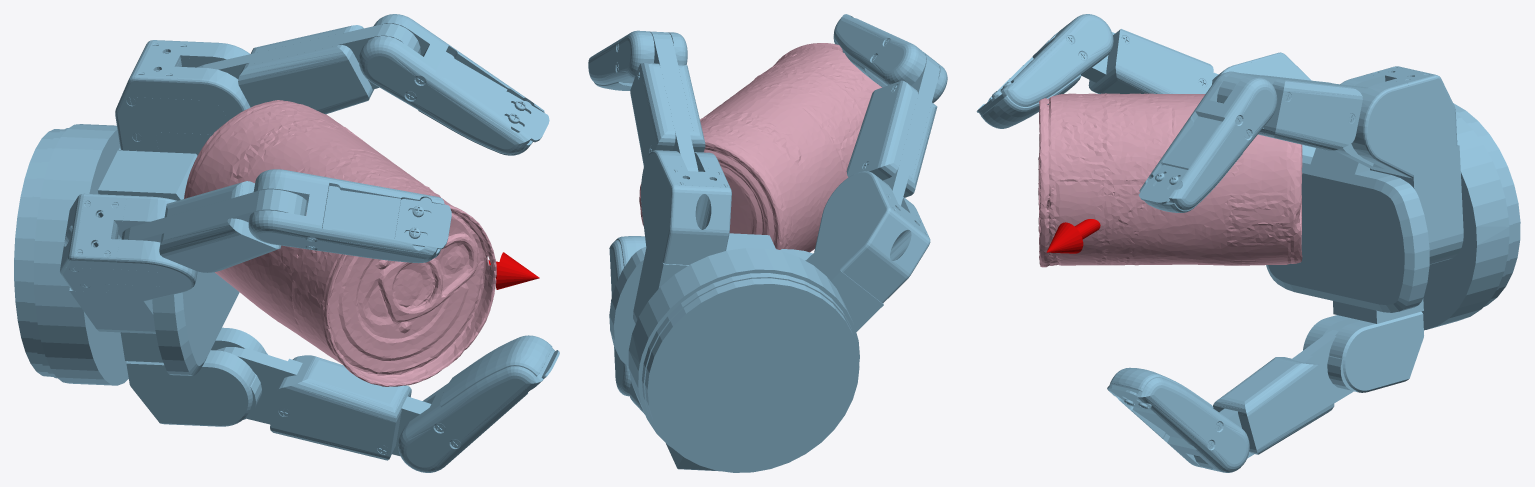
3 renders of one model, left to right at view 1: azimuth 30°, elevation 25°; view 2: azimuth 150°, elevation 25°; view 3: azimuth 270°, elevation 25°, orthographic. The views are drawn at different scales.
Parts seen in each view (by area): view 1: world, tomato_soup_can.stl; view 2: world, tomato_soup_can.stl; view 3: world, tomato_soup_can.stl.
Part boxes in pixels (bbox=[...]): world: bbox=[14, 14, 559, 472]; tomato_soup_can.stl: bbox=[184, 100, 496, 386]; world: bbox=[588, 14, 947, 472]; tomato_soup_can.stl: bbox=[639, 43, 881, 252]; world: bbox=[976, 14, 1520, 472]; tomato_soup_can.stl: bbox=[1038, 93, 1302, 267].
Size of the model in its own units: 0.1704 by 0.1644 by 0.2099.
